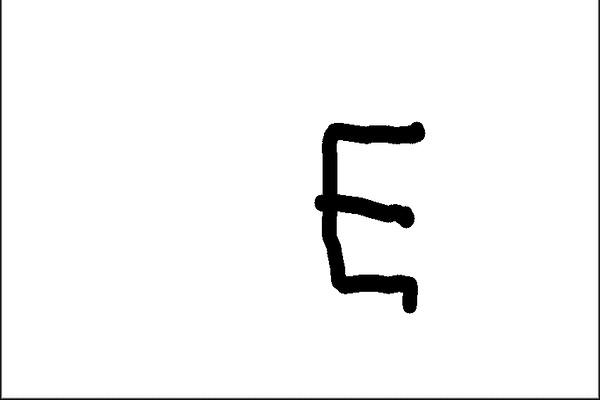E: (308, 113, 439, 315)
